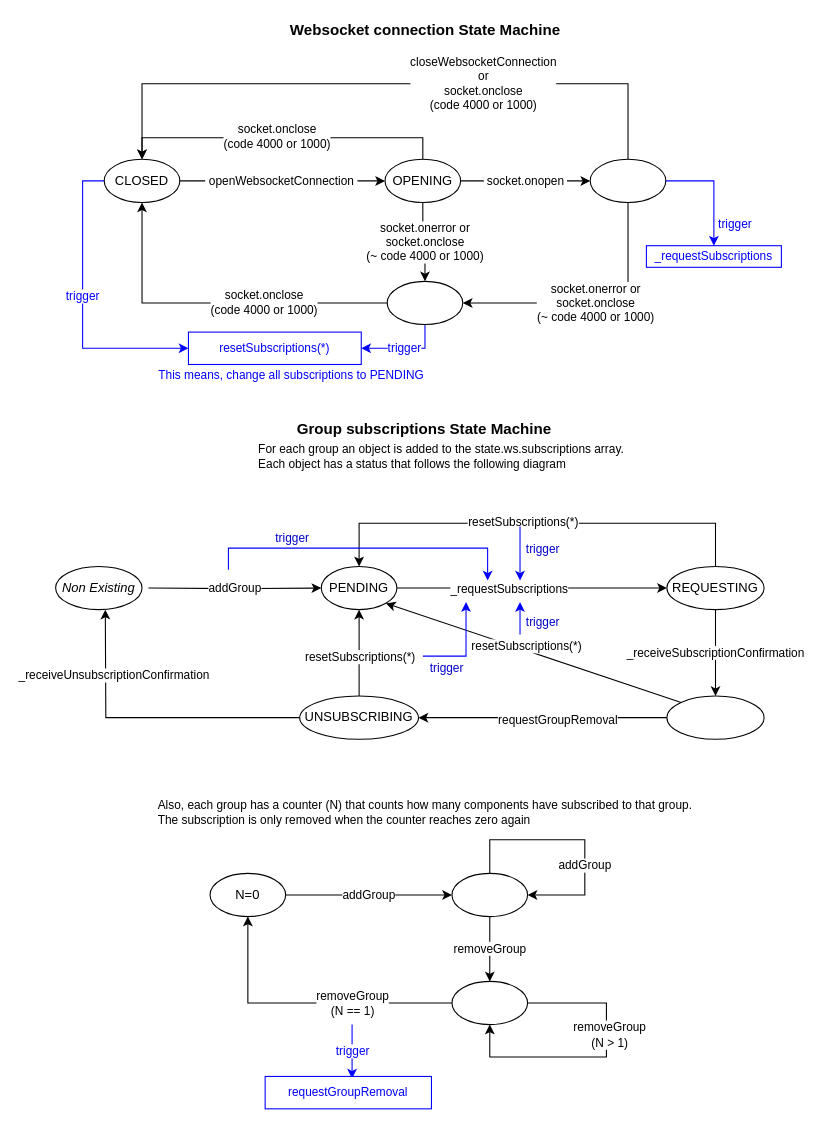
Some shapes in this 822 by 1128 pixel diagram are drawn without their labels. The shapes that lost their labels are listed below. From the top down, each one's centre as x and y in pixels, then its label:
At point 627,180: "OPEN".
At point 424,302: "RETRYING".
At point 715,717: "SUBSCRIBED".
At point 489,894: "N=N+1".
At point 489,1002: "N=N-1".
